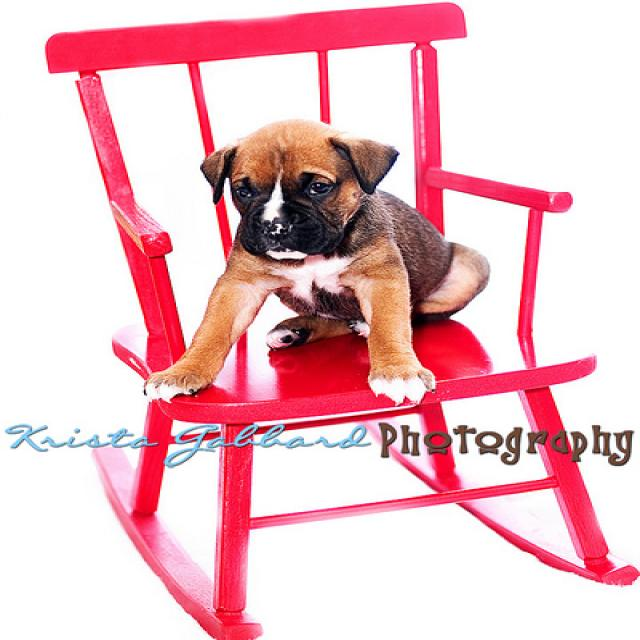dog-boxer: (130, 104, 496, 410)
